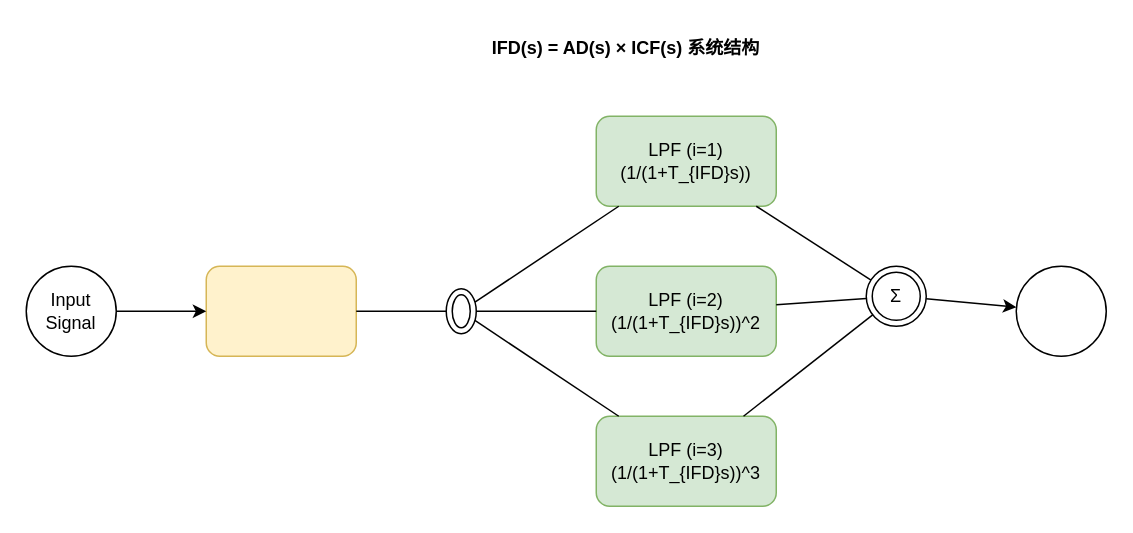
Image size: 1133x533. Some labels were removed from this diagram. The centre of each missing label's shape, as x and y in pixels:
AD(s) (高通 HPF): [280,310]
Output IFD(s): [1060,310]
